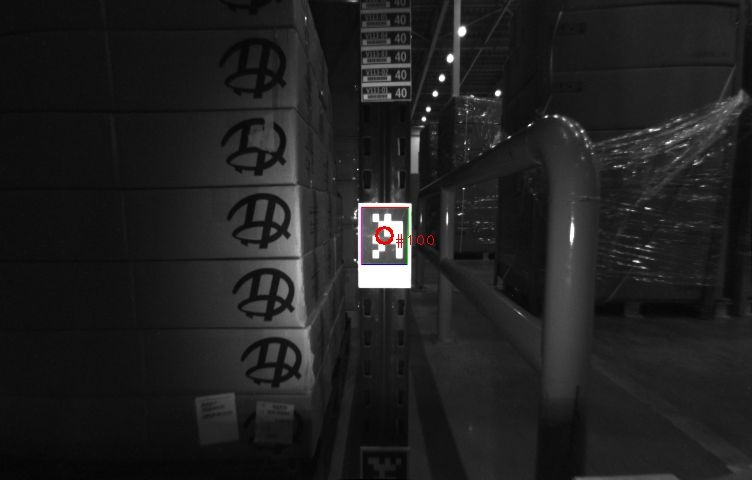True Barcode: (254, 401, 293, 446)
